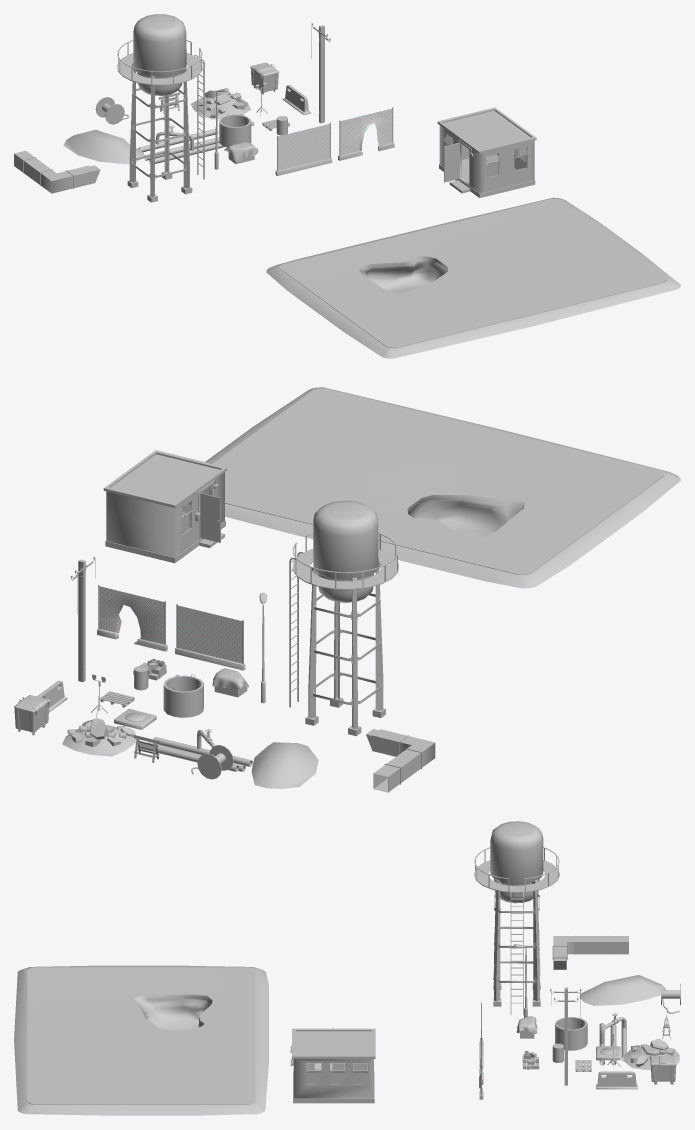
File: Razn.FBX
3 renders of one model, top to bottom at view 1: azimuth 30°, elevation 25°; view 2: azimuth 150°, elevation 25°; view 3: azimuth 270°, elevation 25°, orthographic. The views are drawn at different scales.
Visible parts, largest first — view 1: det_K_1, det_K_5, det_K_2, det_K_4, det_K_3, det_K_24, det_K_27, det_K_29, det_K_18, det_K_12, det_K_19, det_K_10 (+3 smaller); view 2: det_K_1, det_K_5, det_K_2, det_K_4, det_K_3, det_K_24, det_K_27, det_K_18, det_K_12, det_K_29, det_K_19, det_K_10 (+3 smaller); view 3: det_K_1, det_K_5, det_K_2, det_K_27, det_K_24, det_K_18, det_K_12, det_K_14, det_K_29, det_K_19, det_K_10.
Boxes of the visible parts, bbox=[...] form: det_K_1: bbox=[266, 197, 680, 358]; det_K_5: bbox=[117, 14, 204, 202]; det_K_2: bbox=[437, 107, 536, 197]; det_K_4: bbox=[275, 122, 332, 175]; det_K_3: bbox=[338, 107, 394, 160]; det_K_24: bbox=[14, 150, 100, 193]; det_K_27: bbox=[63, 129, 144, 164]; det_K_29: bbox=[138, 125, 225, 163]; det_K_18: bbox=[190, 90, 250, 119]; det_K_12: bbox=[219, 113, 251, 146]; det_K_19: bbox=[250, 62, 279, 94]; det_K_10: bbox=[311, 23, 330, 123]; det_K_1: bbox=[201, 387, 680, 588]; det_K_5: bbox=[289, 500, 398, 736]; det_K_2: bbox=[103, 450, 227, 563]; det_K_4: bbox=[175, 603, 245, 670]; det_K_3: bbox=[97, 585, 167, 651]; det_K_24: bbox=[366, 729, 435, 792]; det_K_27: bbox=[251, 742, 318, 788]; det_K_18: bbox=[62, 718, 136, 756]; det_K_12: bbox=[163, 674, 203, 717]; det_K_29: bbox=[140, 729, 252, 771]; det_K_19: bbox=[14, 695, 50, 735]; det_K_10: bbox=[71, 556, 95, 682]; det_K_1: bbox=[14, 965, 268, 1115]; det_K_5: bbox=[474, 821, 559, 1014]; det_K_2: bbox=[290, 1028, 375, 1103]; det_K_27: bbox=[579, 975, 665, 1005]; det_K_24: bbox=[552, 935, 628, 969]; det_K_18: bbox=[624, 1038, 679, 1069]; det_K_12: bbox=[555, 1017, 587, 1050]; det_K_14: bbox=[596, 1071, 637, 1089]; det_K_29: bbox=[599, 1013, 626, 1065]; det_K_19: bbox=[650, 1056, 676, 1084]; det_K_10: bbox=[550, 987, 581, 1085].
Bounding box in the file's own units: 1240 × 585 × 1939.
